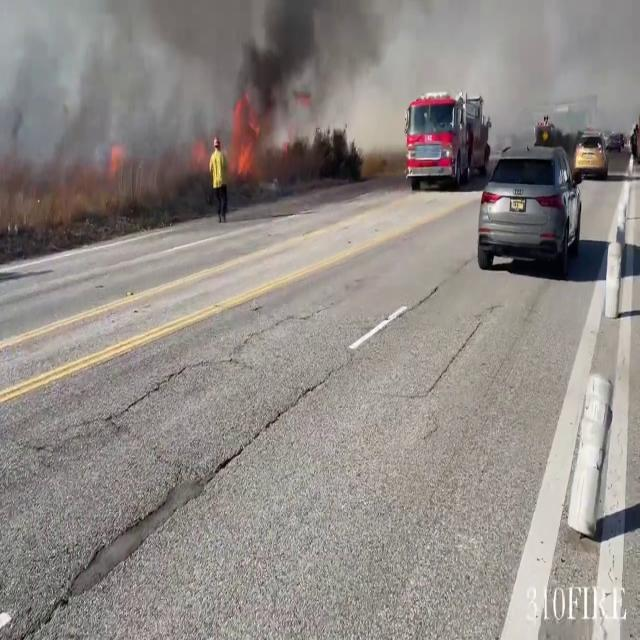Smoke: (0, 0, 379, 190), (0, 0, 207, 219)
